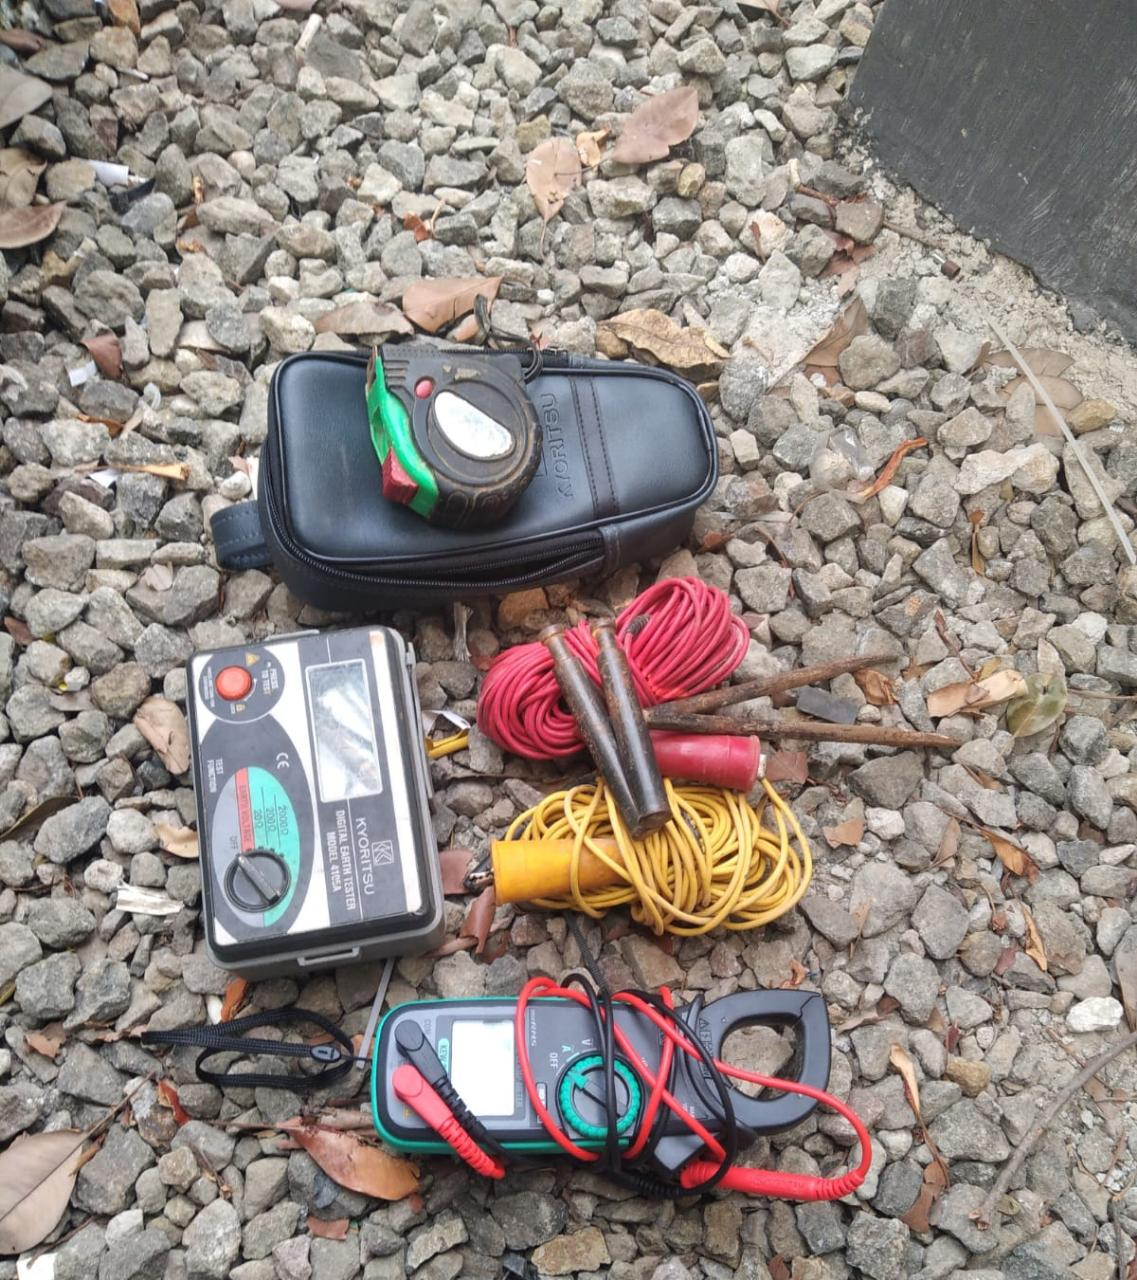EARTH_GROUNDING_TESTER: (179, 622, 450, 968)
TANG_AMPERE: (369, 986, 828, 1172)
